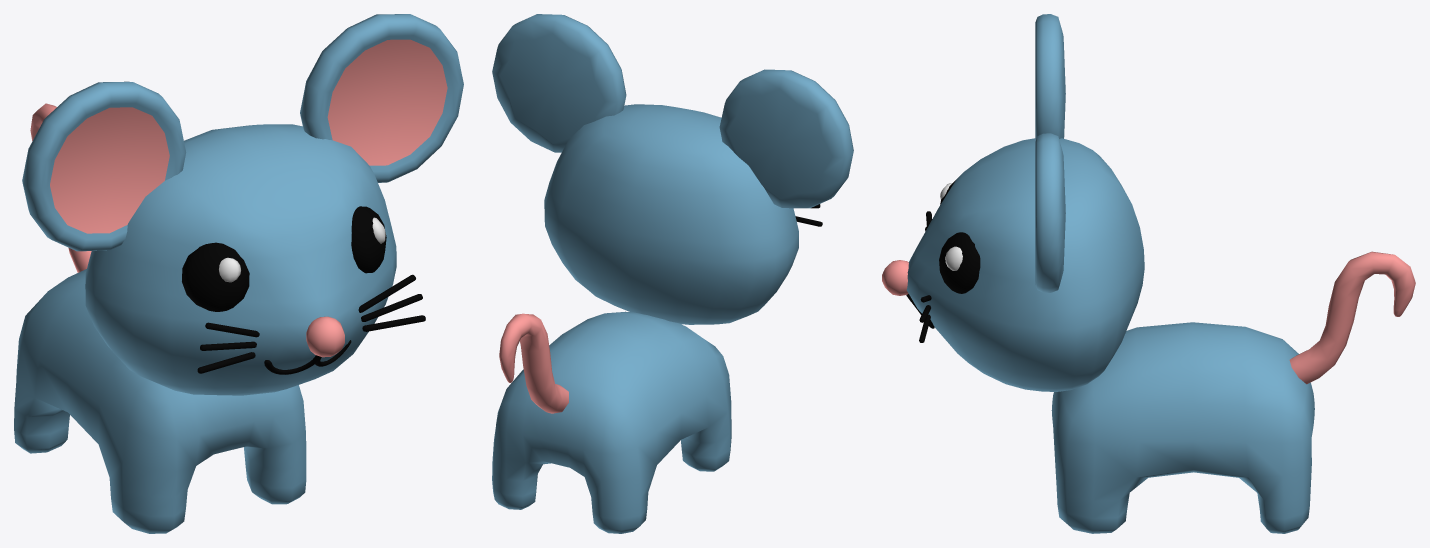
File: mouse.fbx
3 views of the same model, side by side, from view 1: azimuth 30°, elevation 25°; view 2: azimuth 150°, elevation 25°; view 3: azimuth 270°, elevation 25° (orthographic). The views are drawn at different scales.
Parts seen in each view (by area): view 1: mouse_head, mouse_body; view 2: mouse_head, mouse_body; view 3: mouse_head, mouse_body.
Part boxes in pixels (<box>): mouse_head: <box>22,14,463,395</box>; mouse_body: <box>14,103,306,533</box>; mouse_head: <box>492,14,853,324</box>; mouse_body: <box>492,311,731,533</box>; mouse_head: <box>882,14,1144,391</box>; mouse_body: <box>1051,251,1415,533</box>.
Bounding box in the file's own units: 90.04 × 94.76 × 109.
